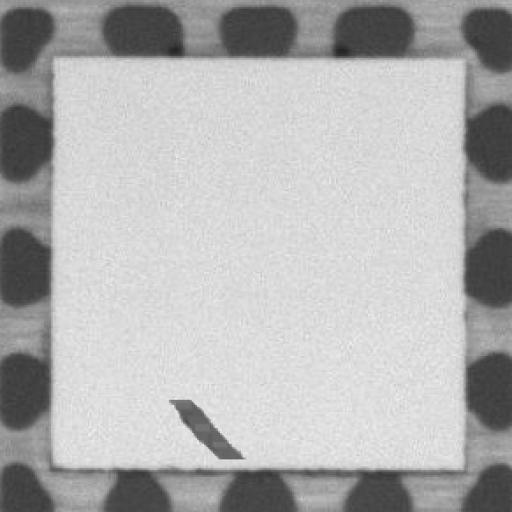DIE_INK: (165, 394, 241, 460)
